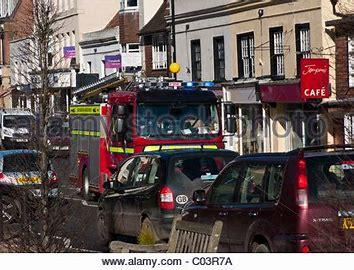Fire-engine: (67, 71, 237, 200)
